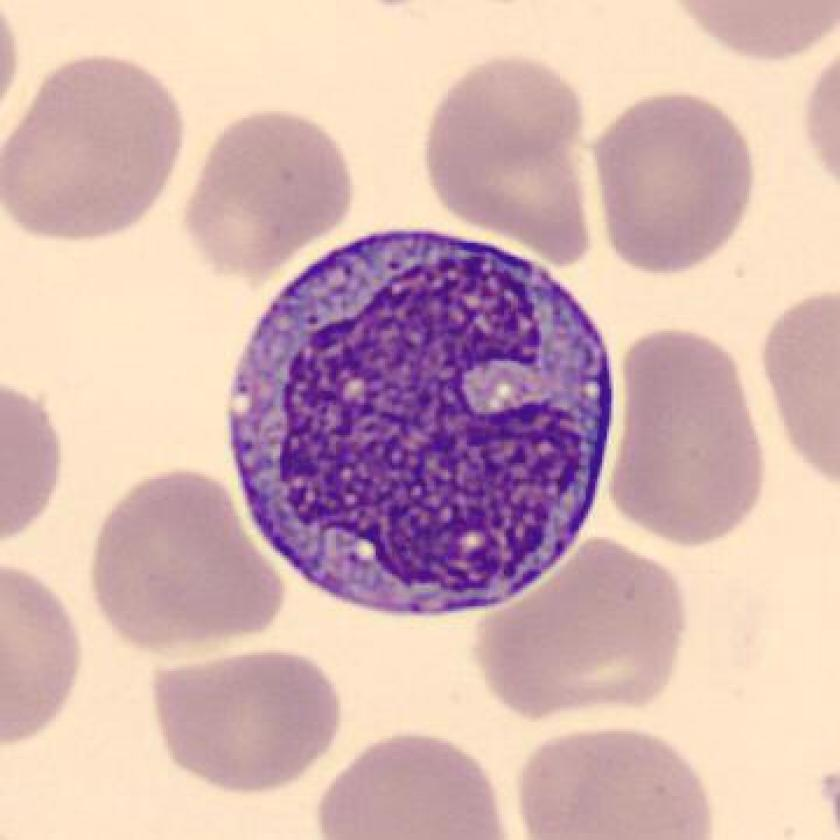monocyte: (206, 212, 636, 635)
